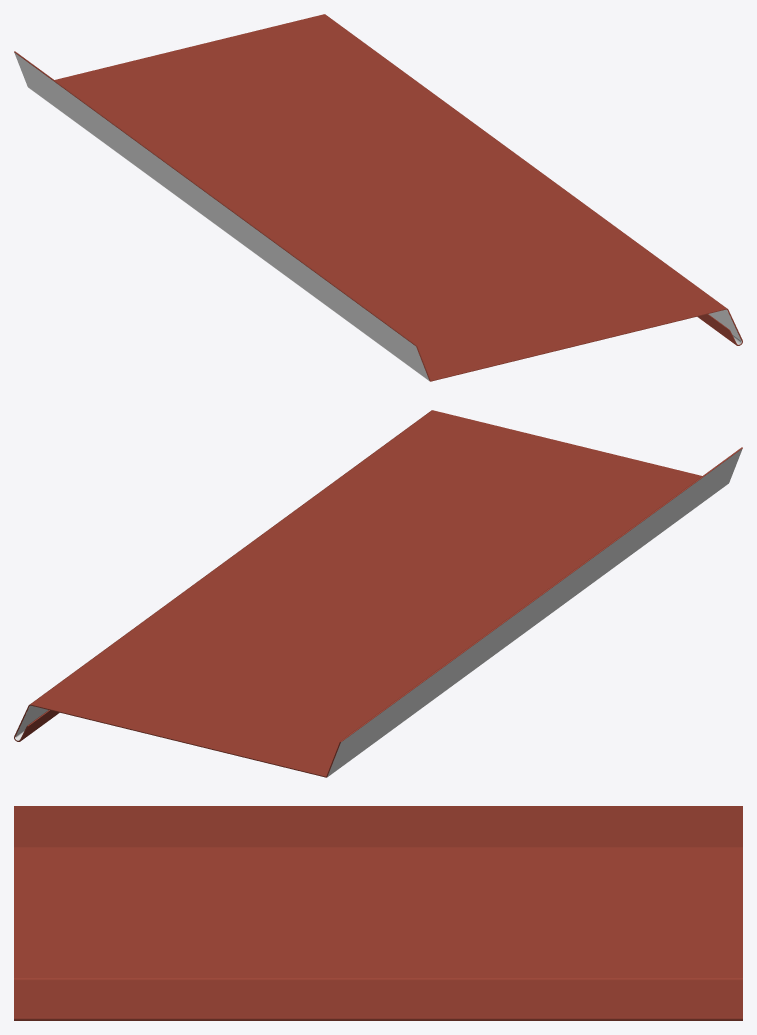
3 renders of one model, top to bottom at view 1: azimuth 30°, elevation 25°; view 2: azimuth 150°, elevation 25°; view 3: azimuth 270°, elevation 25°, orthographic. The views are drawn at different scales.
Parts seen in each view (by area): view 1: w1ll-k, w1ll-b; view 2: w1ll-k, w1ll-b; view 3: w1ll-k.
Boxes of the visible parts, <box> form: w1ll-k: <box>14,14,742,381</box>; w1ll-b: <box>14,52,741,381</box>; w1ll-k: <box>14,410,742,777</box>; w1ll-b: <box>15,448,742,777</box>; w1ll-k: <box>14,806,742,1020</box>.
Bounding box in the file's own units: 939 × 217 × 2001.
